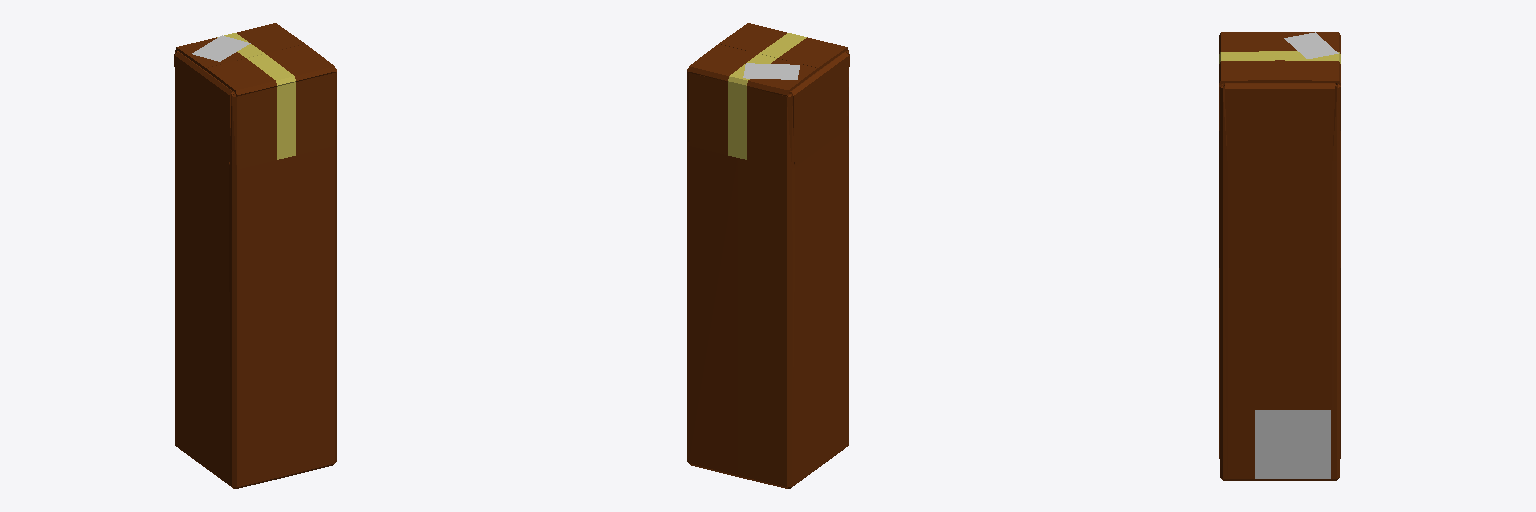
Rendered from Cardboard.022.obj.
3 renders of one model, left to right at view 1: azimuth 30°, elevation 25°; view 2: azimuth 150°, elevation 25°; view 3: azimuth 270°, elevation 25°, orthographic.
Visible parts, largest first — view 1: Cardboard.022_Cube.009, RedSticker.013_Plane.007; view 2: Cardboard.022_Cube.009, RedSticker.013_Plane.007; view 3: Cardboard.022_Cube.009, sign2.016_sign2.003, RedSticker.013_Plane.007.
Part boxes in pixels (x1,y1,x2,y2): Cardboard.022_Cube.009: (174, 23, 336, 488); RedSticker.013_Plane.007: (192, 35, 250, 61); Cardboard.022_Cube.009: (687, 23, 849, 488); RedSticker.013_Plane.007: (743, 63, 799, 79); Cardboard.022_Cube.009: (1219, 32, 1340, 480); sign2.016_sign2.003: (1255, 410, 1330, 478); RedSticker.013_Plane.007: (1284, 32, 1338, 58).
Size of the model in its own units: 0.2737 by 0.9882 by 0.2739.